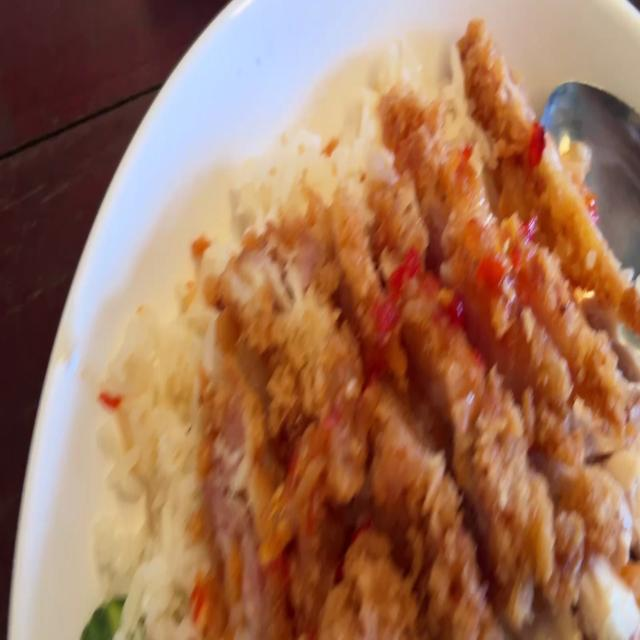chicken_rice: (109, 29, 640, 640)
cucumber: (79, 589, 154, 640)
fried_chicken: (209, 29, 628, 636)
